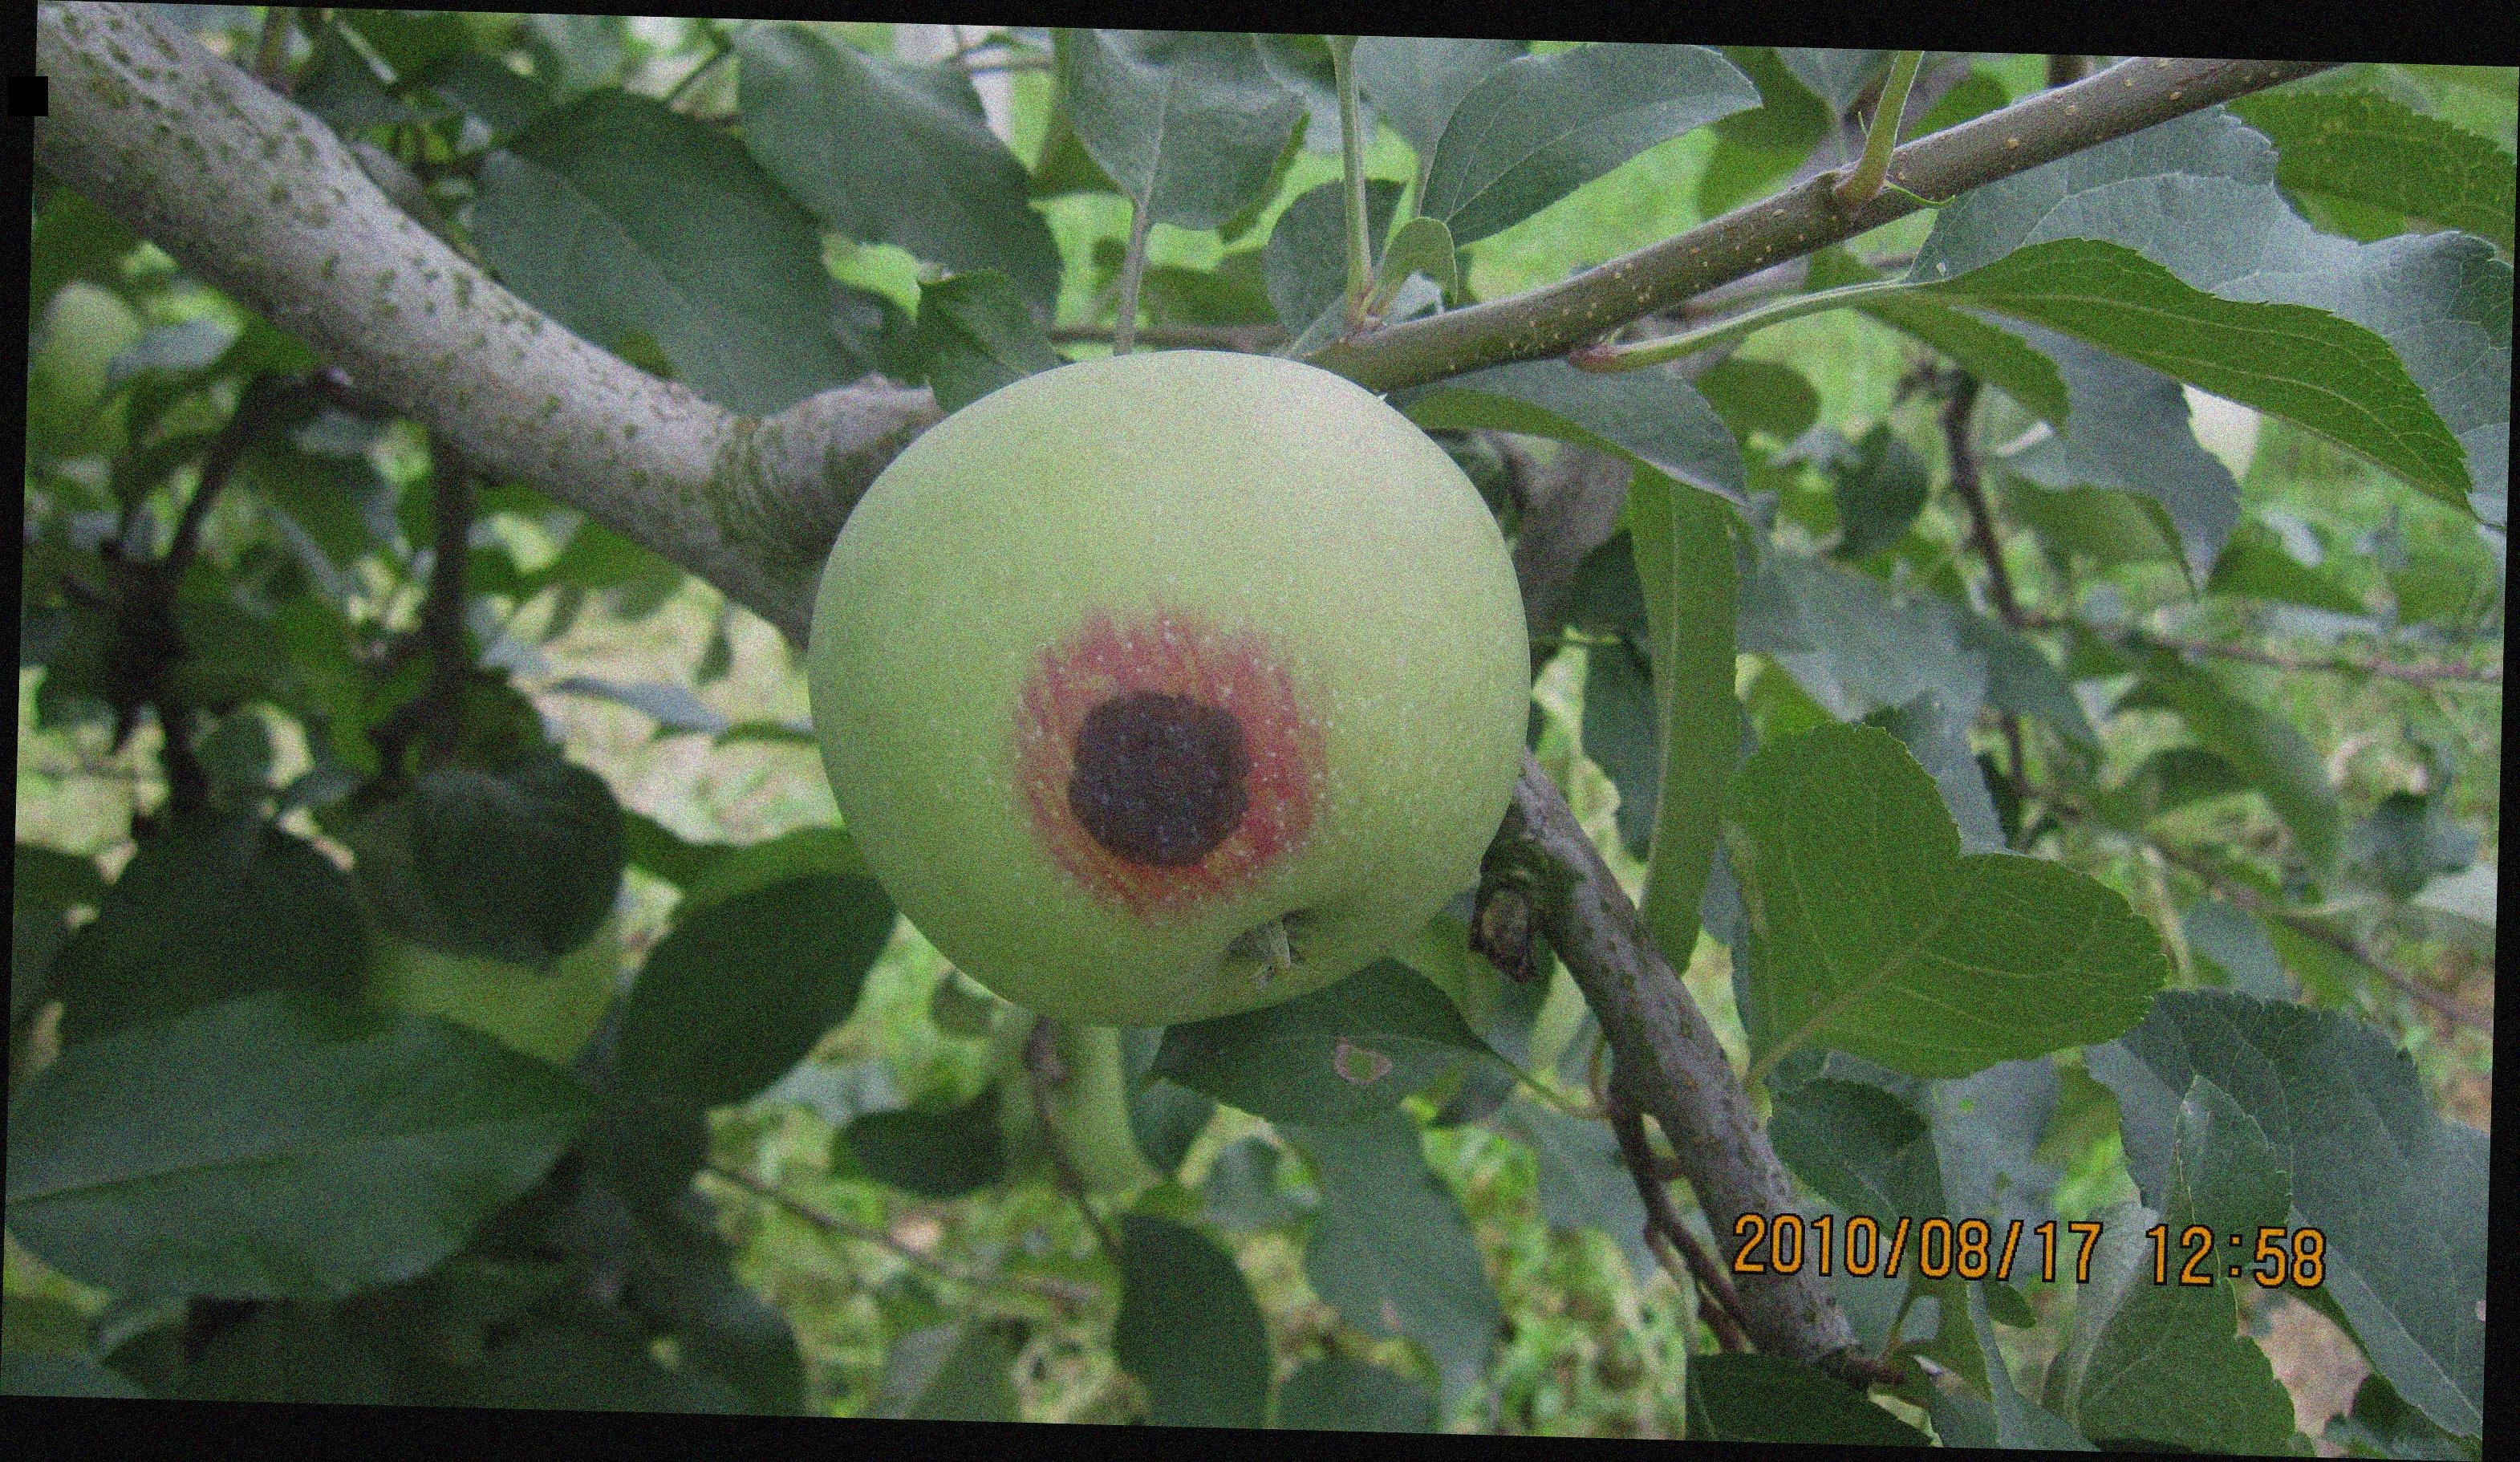rotten apple: (774, 338, 1540, 1023)
